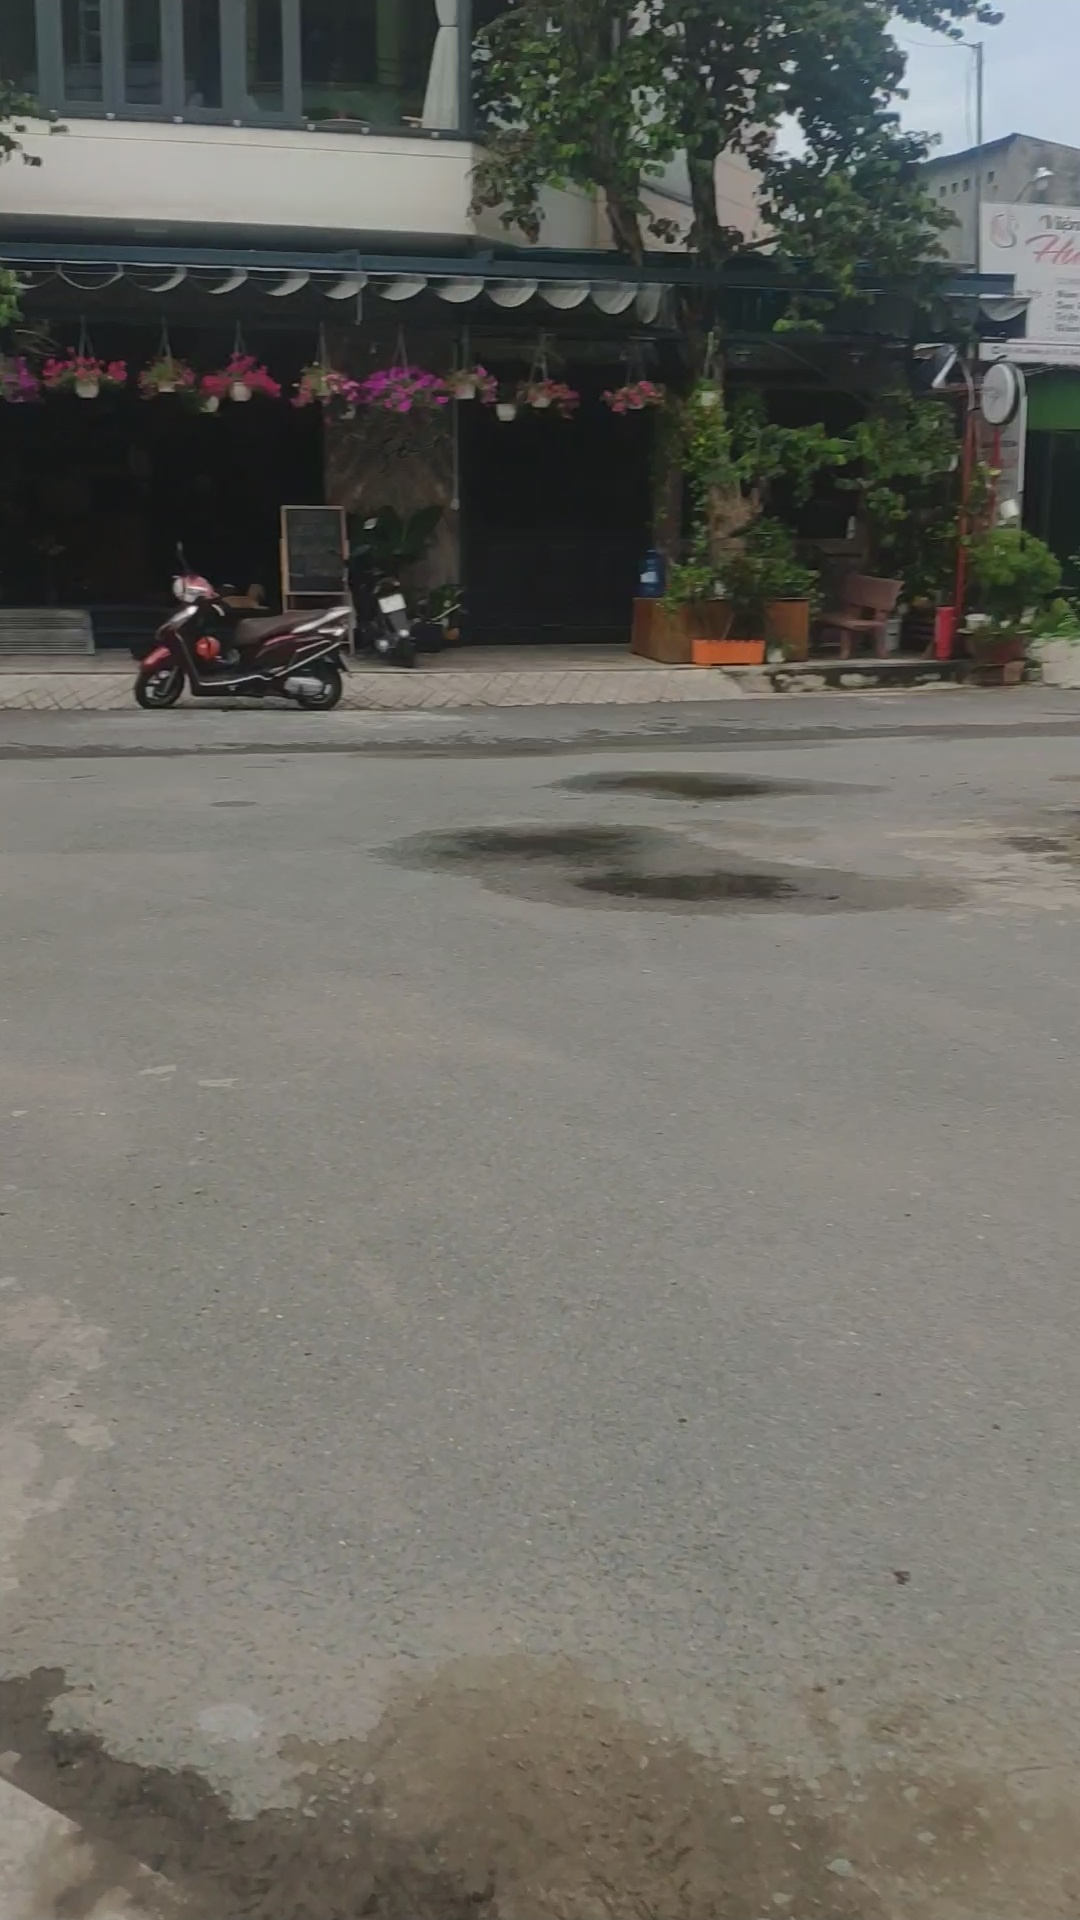hole: (554, 764, 828, 807), (574, 866, 814, 906), (429, 828, 659, 858)
